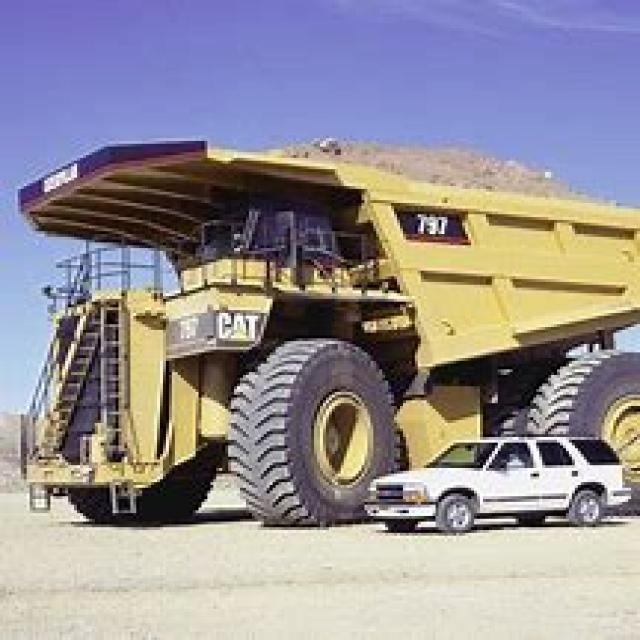dump_truck: (15, 121, 637, 524)
